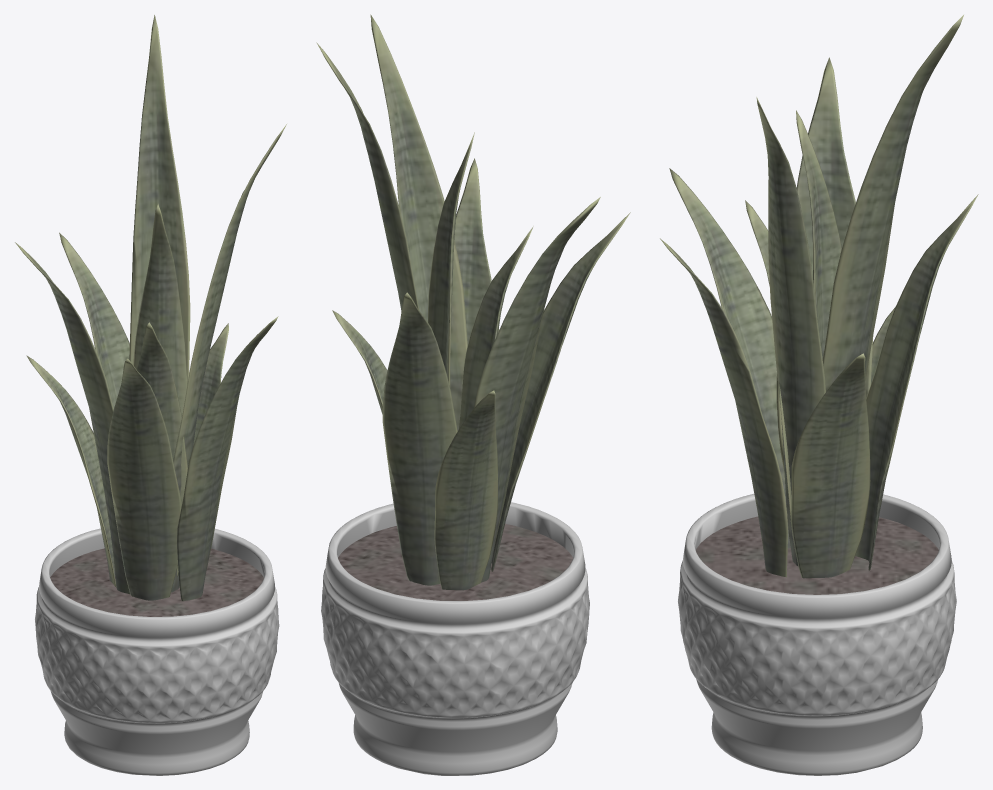
The model's file is Pot005.glb.
3 renders of one model, left to right at view 1: azimuth 30°, elevation 25°; view 2: azimuth 150°, elevation 25°; view 3: azimuth 270°, elevation 25°, orthographic. The views are drawn at different scales.
Visible parts, largest first — view 1: BP_Pot005; view 2: BP_Pot005; view 3: BP_Pot005.
Part boxes in pixels (x1,y1,x2,y2): BP_Pot005: (15,15,286,775); BP_Pot005: (316,14,630,775); BP_Pot005: (660,15,978,775).
Size of the model in its own units: 0.1935 by 0.5029 by 0.1932.
Materials: 3 (2 with a texture image).
